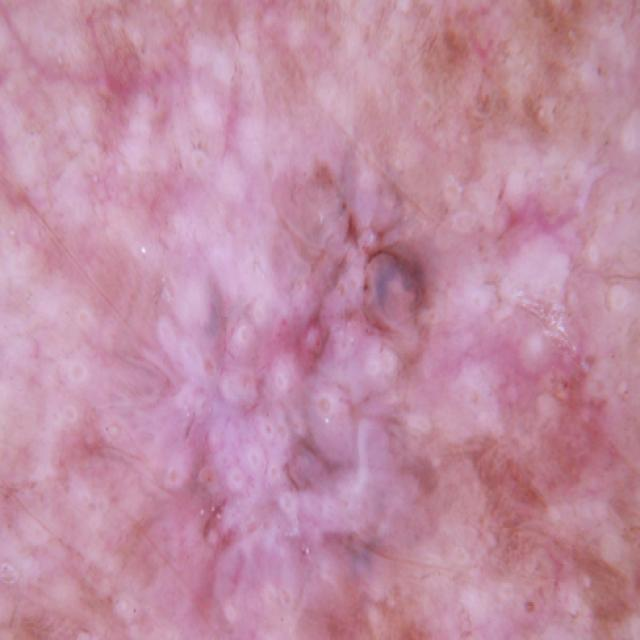Keratosis: (31, 93, 546, 640)
